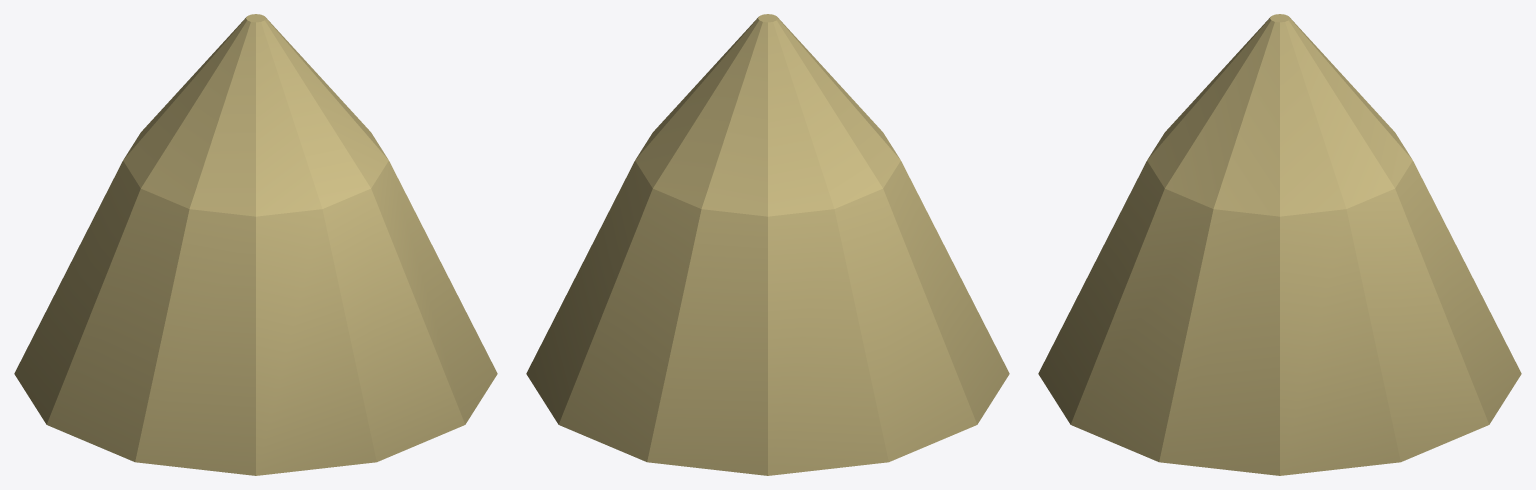
Rendered from haystack_2.glb.
3 renders of one model, left to right at view 1: azimuth 30°, elevation 25°; view 2: azimuth 150°, elevation 25°; view 3: azimuth 270°, elevation 25°, orthographic.
Parts seen in each view (by area): view 1: haystack_2; view 2: haystack_2; view 3: haystack_2.
Boxes of the visible parts, bbox=[...] form: haystack_2: bbox=[14, 14, 497, 475]; haystack_2: bbox=[526, 14, 1009, 475]; haystack_2: bbox=[1038, 14, 1521, 475].
Size of the model in its own units: 2.41 by 1.96 by 2.41.
